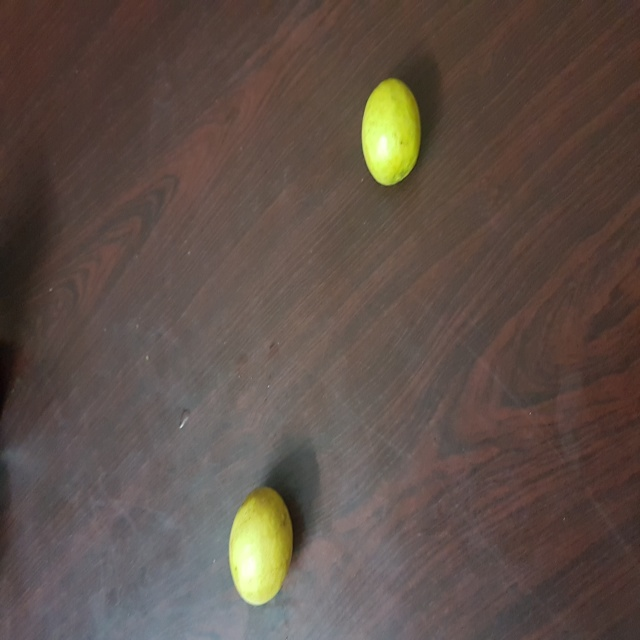lemon: (222, 483, 300, 610), (357, 69, 430, 188)
